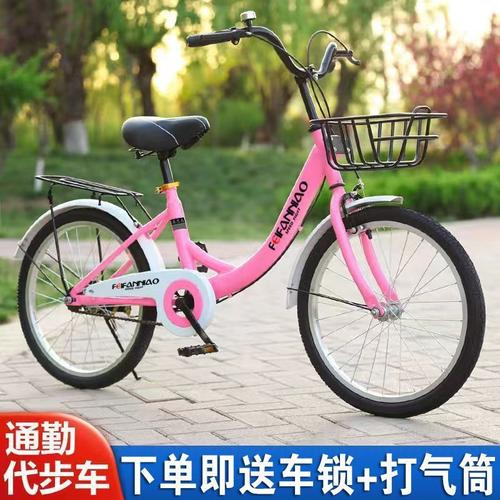单车: (7, 9, 498, 426)
